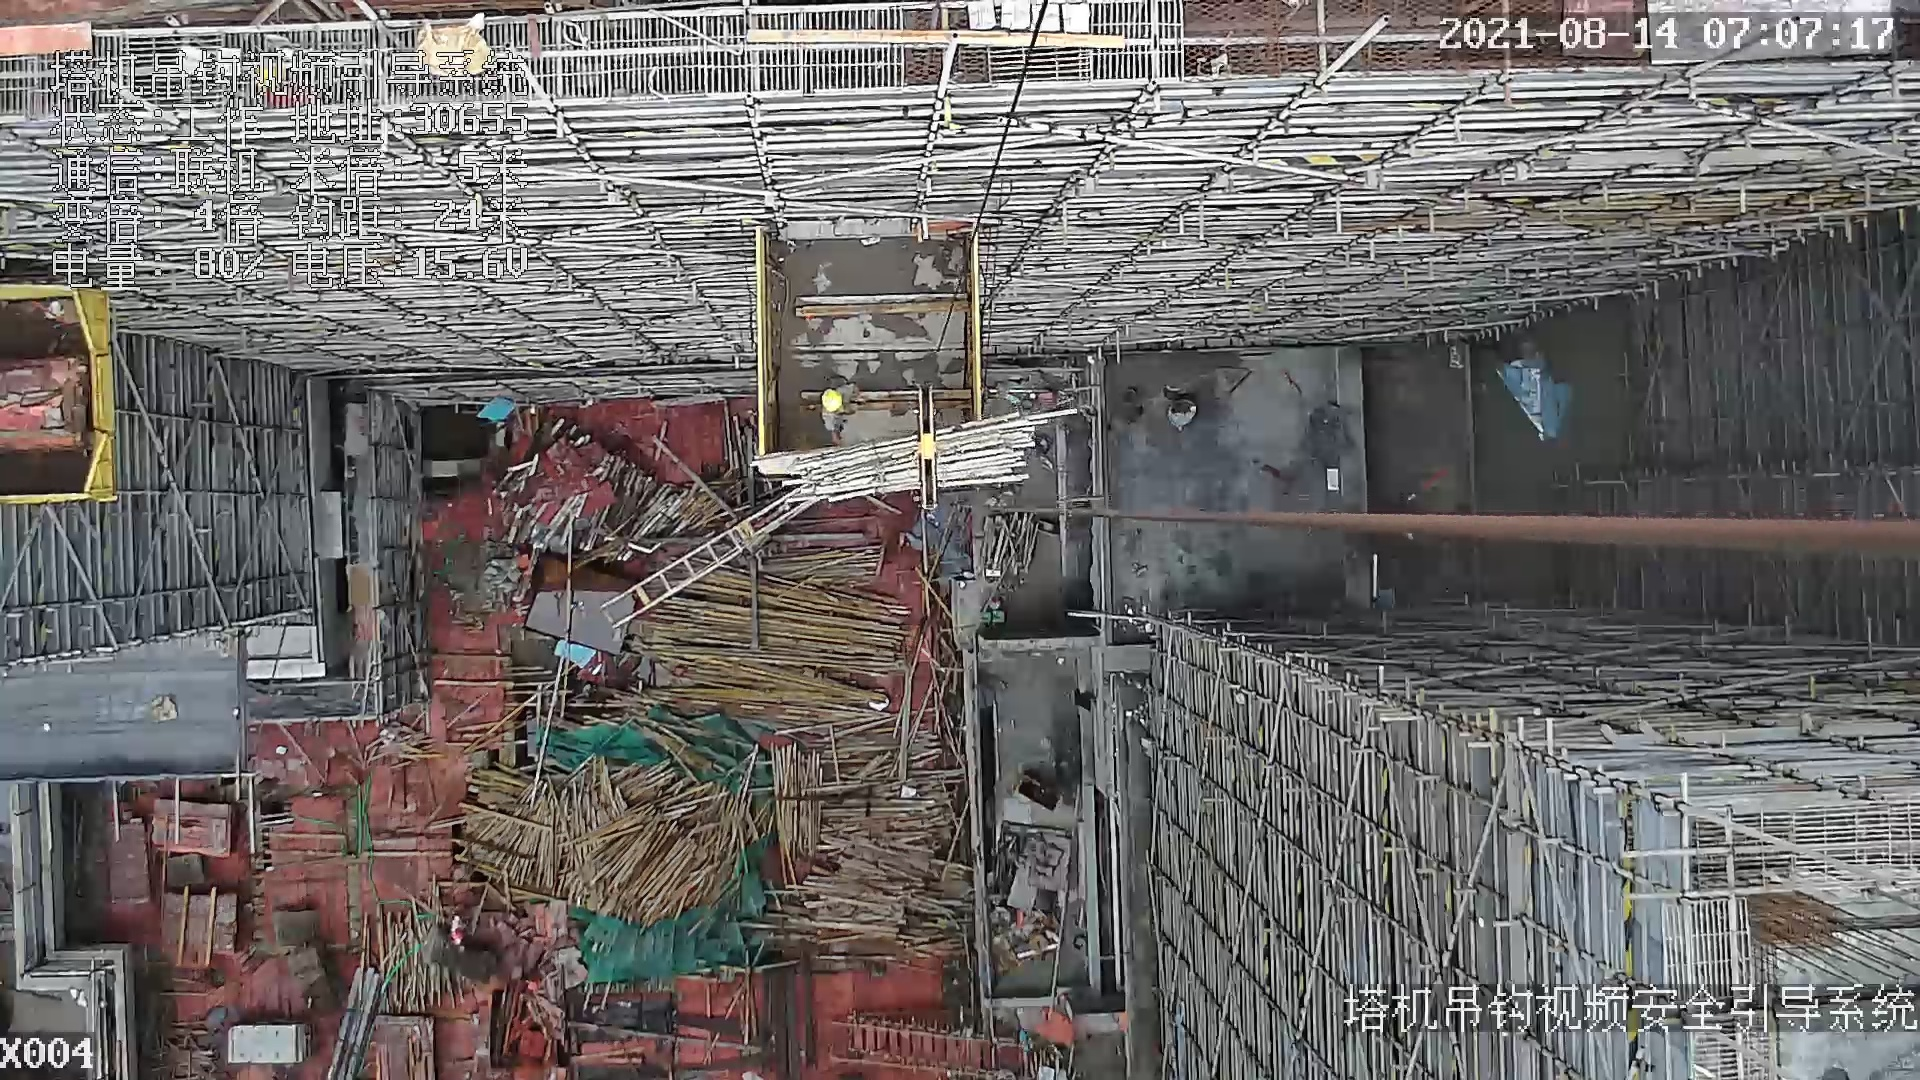helmet: (822, 388, 844, 414)
hook: (913, 383, 944, 513)
person: (817, 385, 859, 444)
